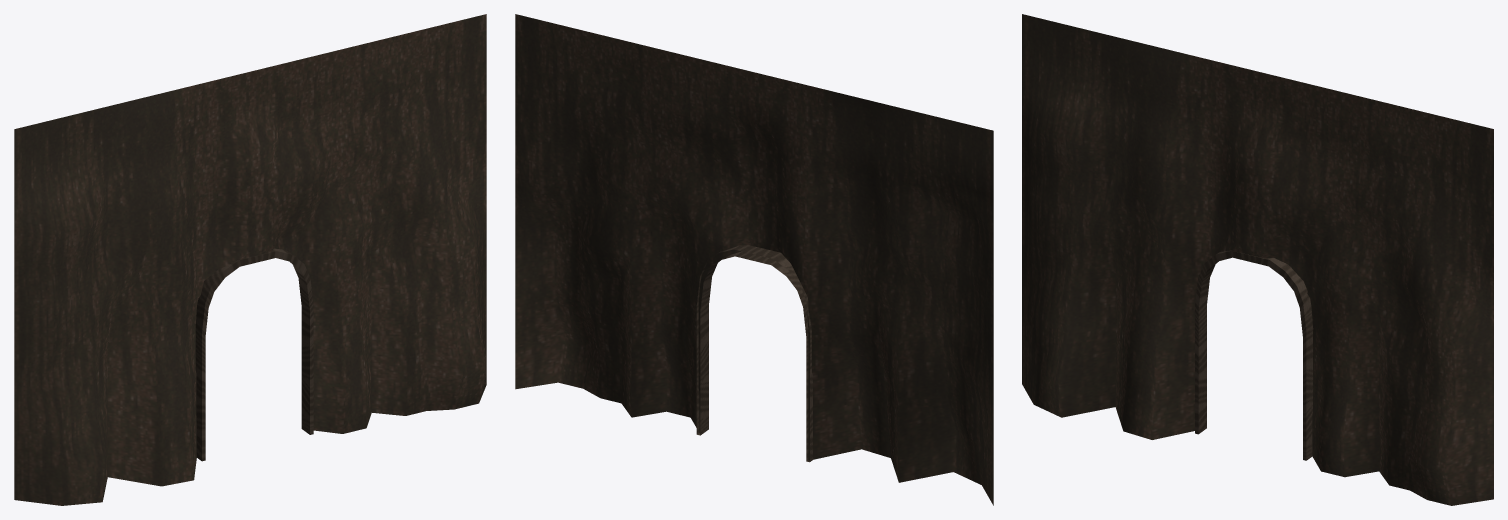
The model's file is wall2.fbx.
The picture shows the model from 3 angles, left to right: view 1: azimuth 30°, elevation 25°; view 2: azimuth 150°, elevation 25°; view 3: azimuth 330°, elevation 25°; orthographic projection.
Visible parts, largest first — view 1: wall_object2; view 2: wall_object2; view 3: wall_object2.
Boxes of the visible parts, bbox=[...] form: wall_object2: bbox=[14, 14, 486, 505]; wall_object2: bbox=[515, 14, 993, 505]; wall_object2: bbox=[1022, 14, 1493, 505].
Bounding box in the file's own units: 400 × 300 × 40.76.
1 material, 1 textured.
